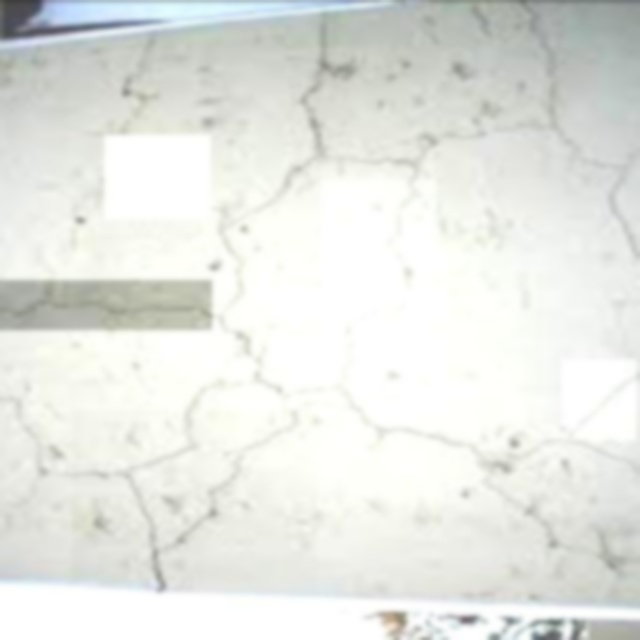SurfaceCrack: (260, 0, 540, 316), (84, 360, 300, 578), (378, 364, 640, 524)
